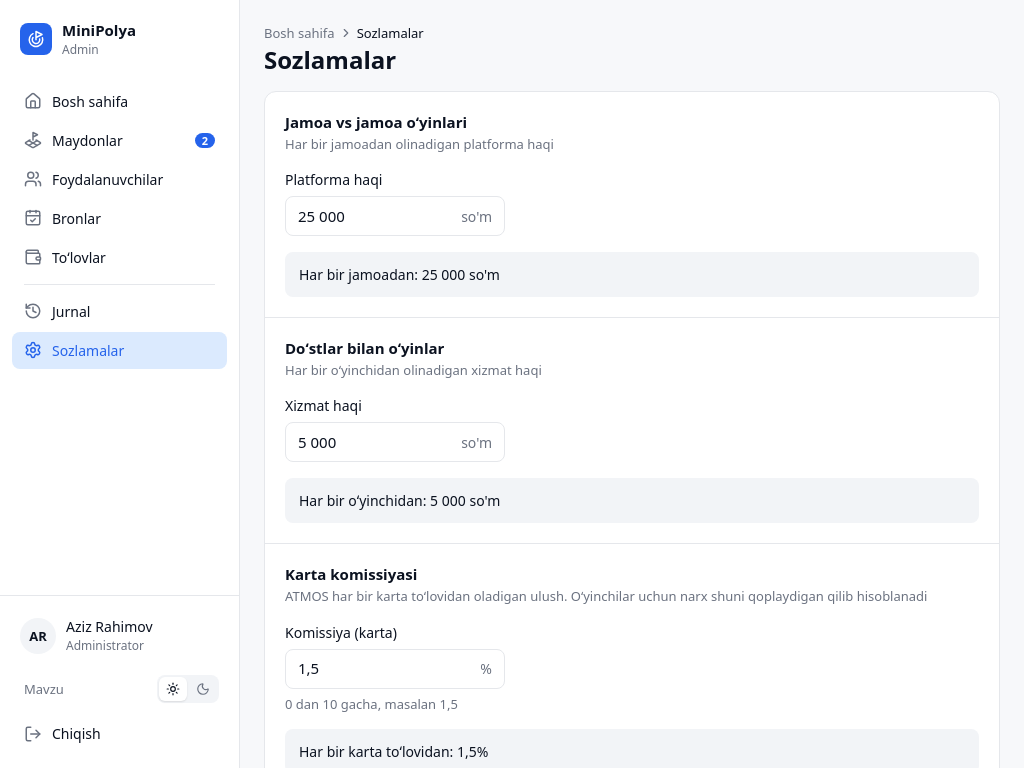
it: Sozlamalar › edits, confirms and saves only the changed field, in tiyin
Replace the text in the field labelled "Platforma haqi" with "30 000". click: (376, 216)
box: left=298, top=206, right=453, bottom=227
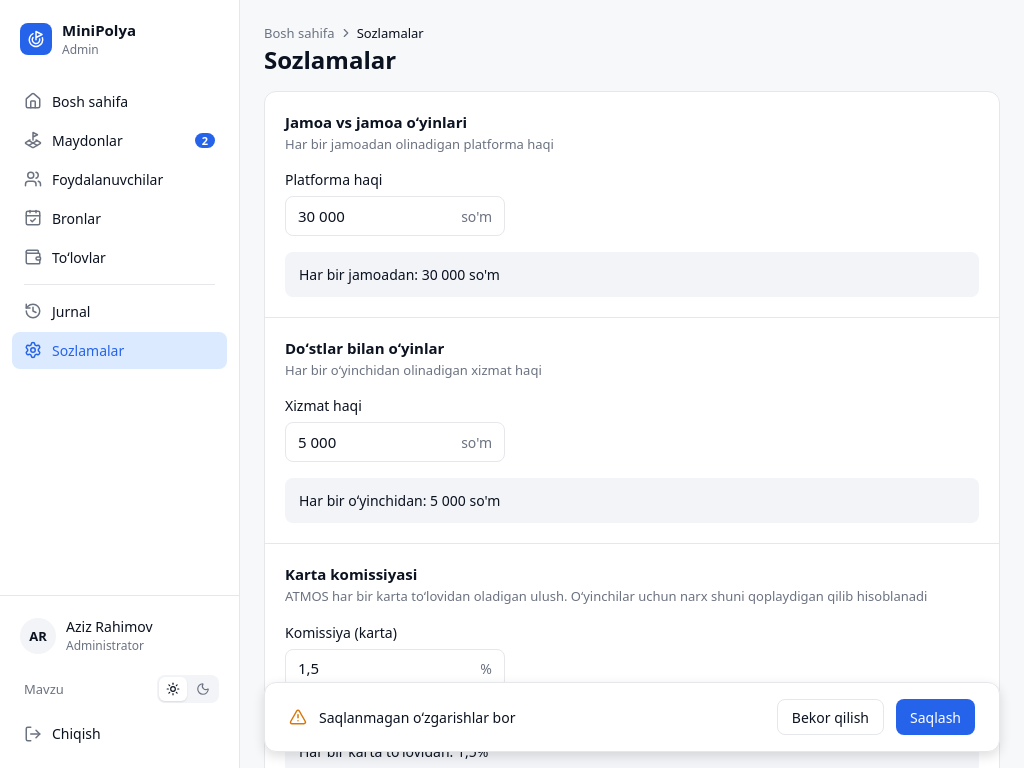
Check: the text "Har bir jamoadan: 30 000 so'm" is shown, box left=285, top=252, right=979, bottom=297
Check: the element "Saqlanmagan oʻzgarishlar" shows "Saqlanmagan oʻzgarishlar bor", box left=319, top=708, right=515, bottom=726
Click the button "Saqlash". click: (936, 717)
box: left=896, top=699, right=975, bottom=735
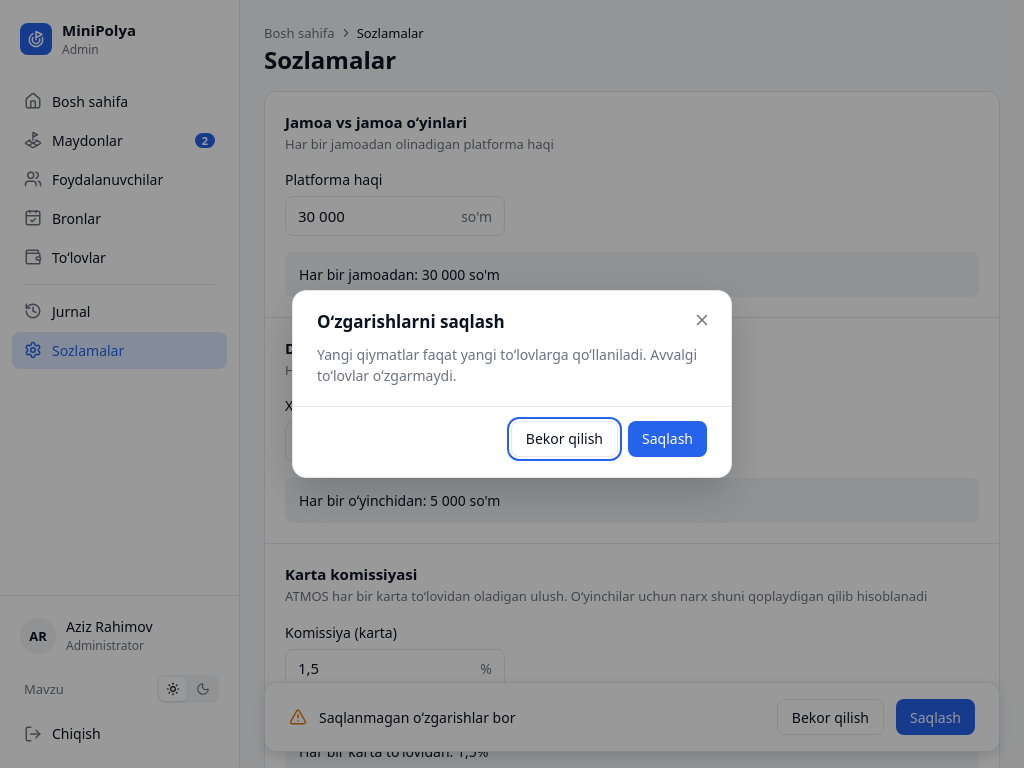
Check: the dialog "Oʻzgarishlarni saqlash" shows "Yangi qiymatlar faqat yangi toʻlovlarga qoʻllaniladi. Avvalgi toʻlovlar oʻzgarmaydi.", box left=317, top=344, right=697, bottom=384
Click the button "Saqlash". click: (668, 438)
box: left=628, top=420, right=707, bottom=456
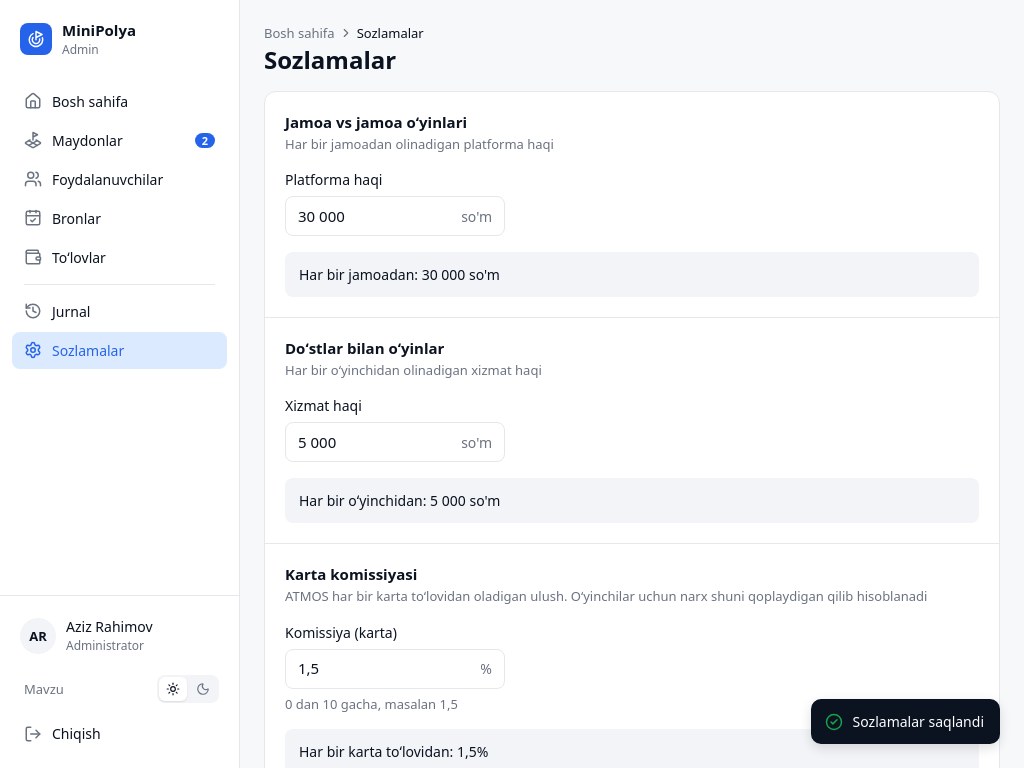
Check: the text "Sozlamalar saqlandi" is shown, box left=853, top=711, right=984, bottom=732
Check: the text "Saqlanmagan oʻzgarishlar bor" is gone
Check: the field labelled "Platforma haqi" holds "30 000", box left=298, top=206, right=453, bottom=227
